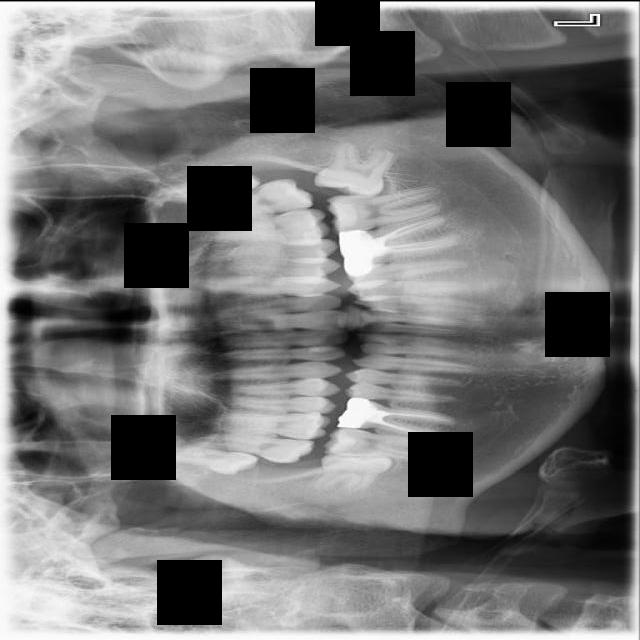3M ESPE Implant: (155, 444, 259, 476)
52: (326, 189, 375, 236), (337, 227, 382, 277), (336, 395, 377, 430), (303, 345, 345, 360)
73: (364, 209, 465, 270), (360, 400, 455, 441), (549, 77, 569, 85)
BioHorizons Implant: (187, 173, 316, 226)
BioLife Implant: (144, 157, 264, 209)
Biomet 3i Implant: (312, 131, 396, 204)
Blue Sky Bio Implant: (327, 184, 441, 234)
Caries: (185, 429, 314, 465)
Implant: (323, 425, 444, 463)
Keystone Dental Implant: (314, 453, 392, 492)
